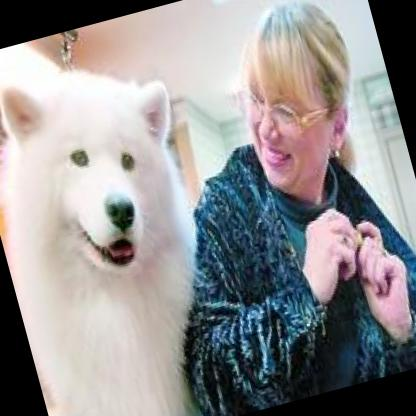Samoyed: (0, 30, 254, 416)
